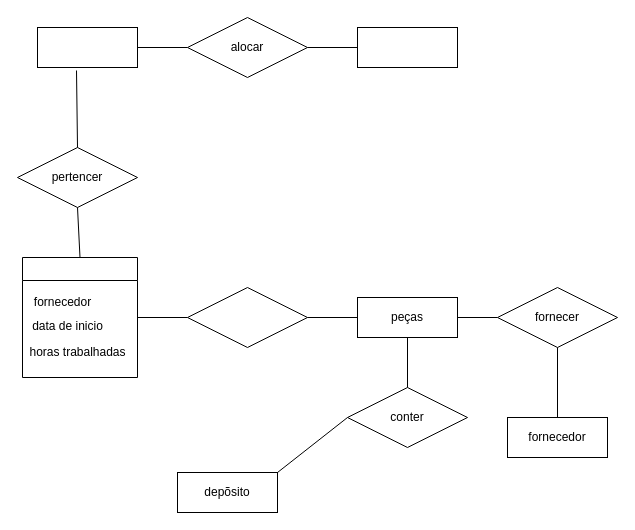
The diagram is 635 pixels wide and 530 high, and some of its shapes have lost their labels. The box of each missing label's shape, as (x1, y1, x2, y2) in pixels:
departamento: (356, 26, 458, 68)
funcionário: (36, 26, 138, 68)
projeto: (22, 256, 138, 378)
utilizar: (186, 286, 308, 348)
